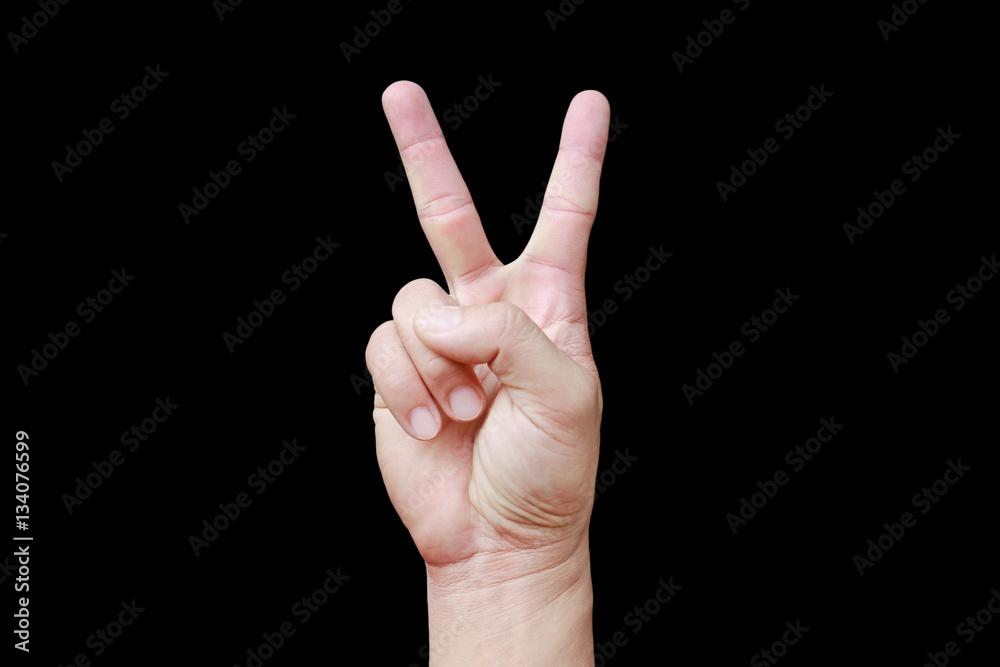scissors: (323, 53, 691, 595)
